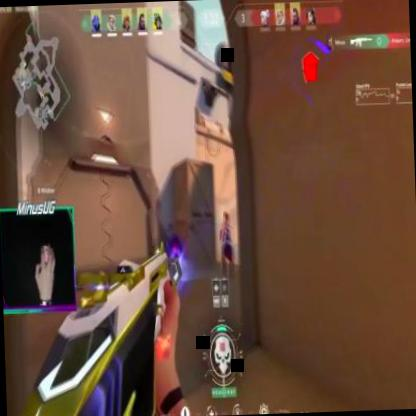enemy: (216, 210, 236, 282)
enemy_head: (223, 212, 230, 226)
